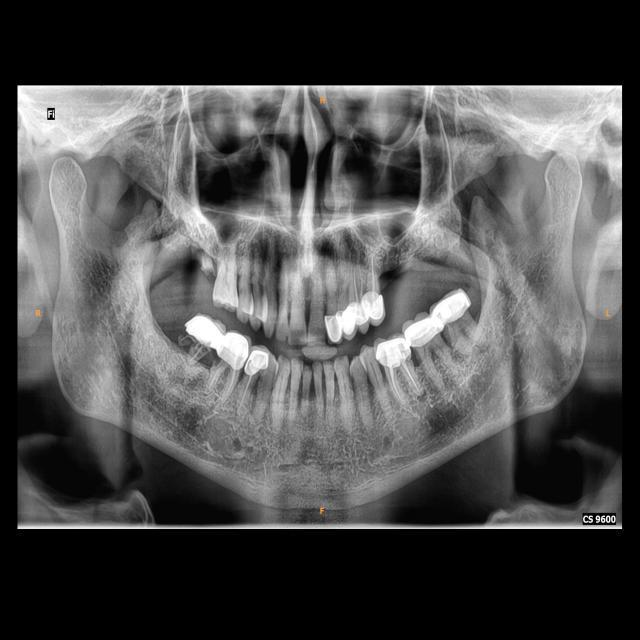kanal-tedavisi: (203, 359, 244, 405), (388, 360, 425, 406), (174, 334, 211, 368), (228, 374, 257, 414), (367, 257, 378, 295), (352, 269, 362, 299)
kaplama: (179, 304, 229, 355), (370, 325, 416, 375), (399, 307, 447, 354), (428, 287, 474, 332), (213, 328, 255, 374), (241, 344, 274, 382), (365, 288, 389, 330), (338, 301, 361, 342), (351, 297, 372, 336), (323, 311, 345, 343)
